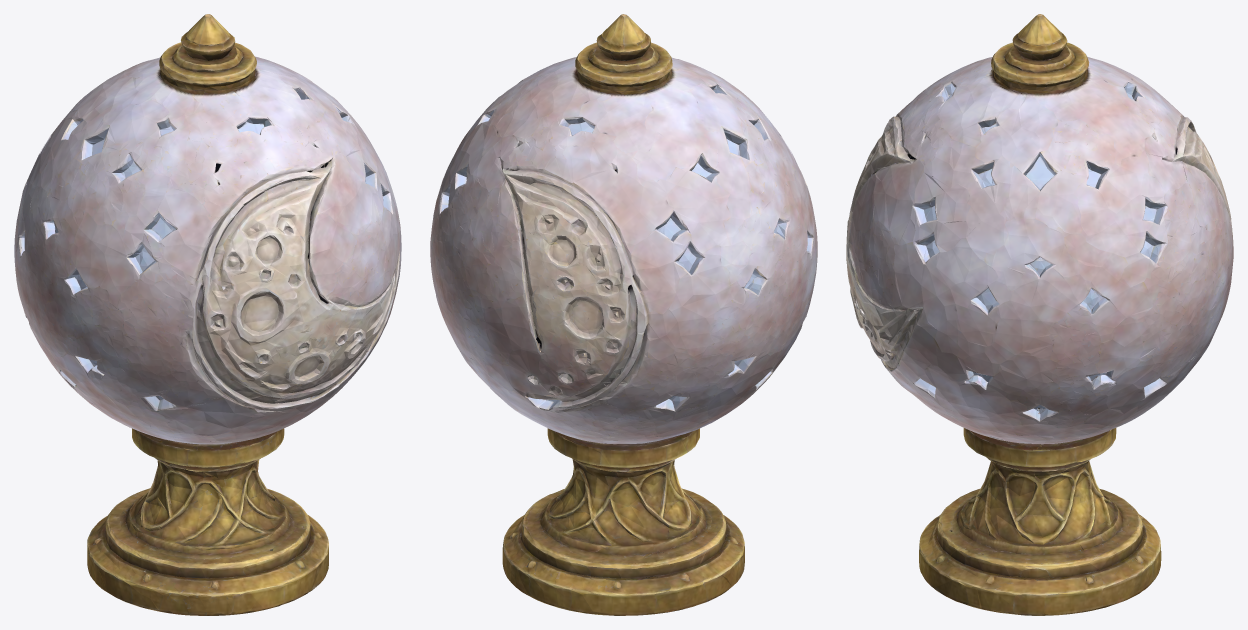
File: dress-moon-orb.glb
3 renders of one model, left to right at view 1: azimuth 30°, elevation 25°; view 2: azimuth 150°, elevation 25°; view 3: azimuth 270°, elevation 25°, orthographic.
Bounding box in the file's own units: 0.6353 × 0.9996 × 0.6373.
Materials: 1 (1 with a texture image).
